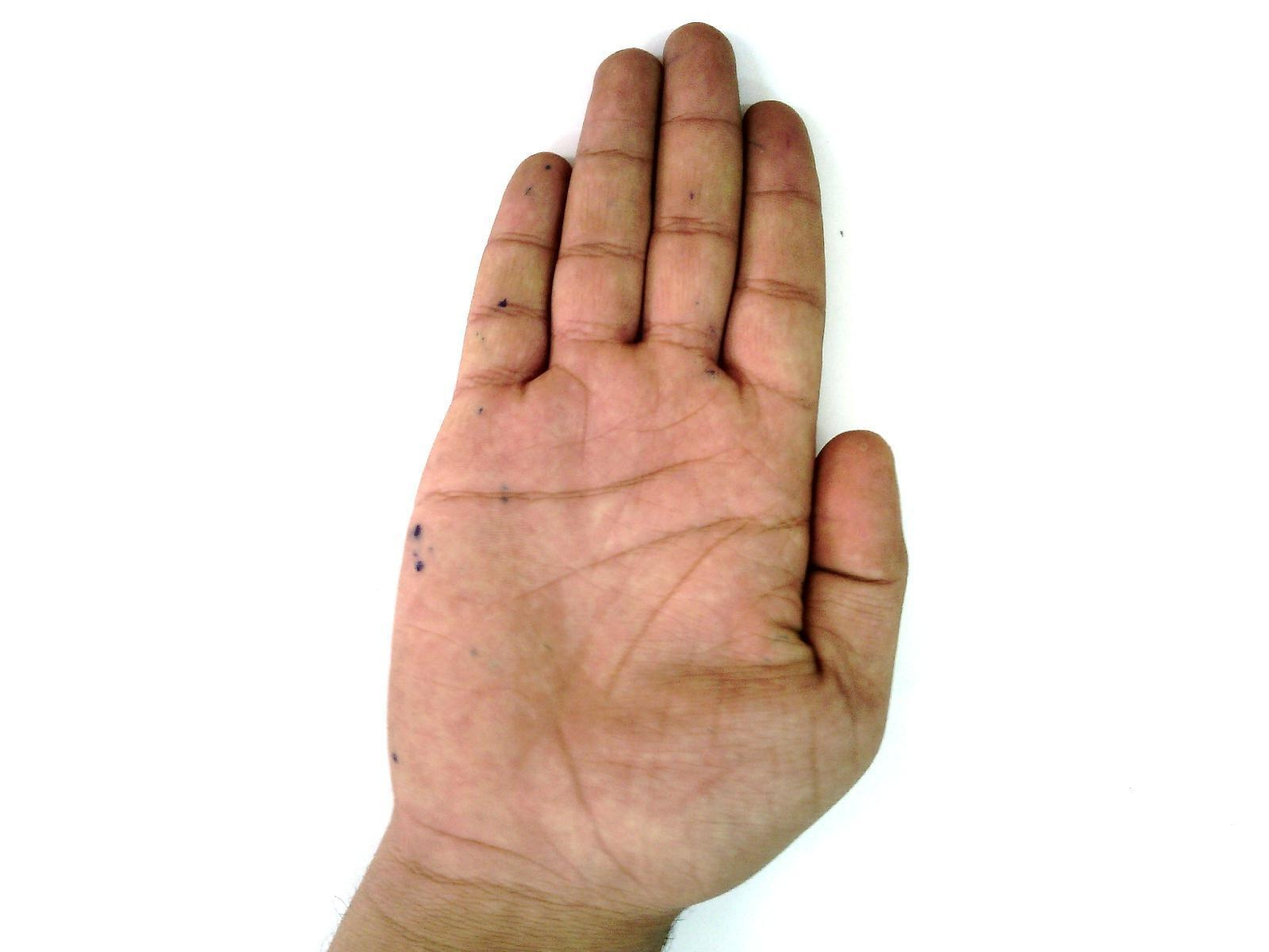open_palm: (336, 21, 913, 914)
